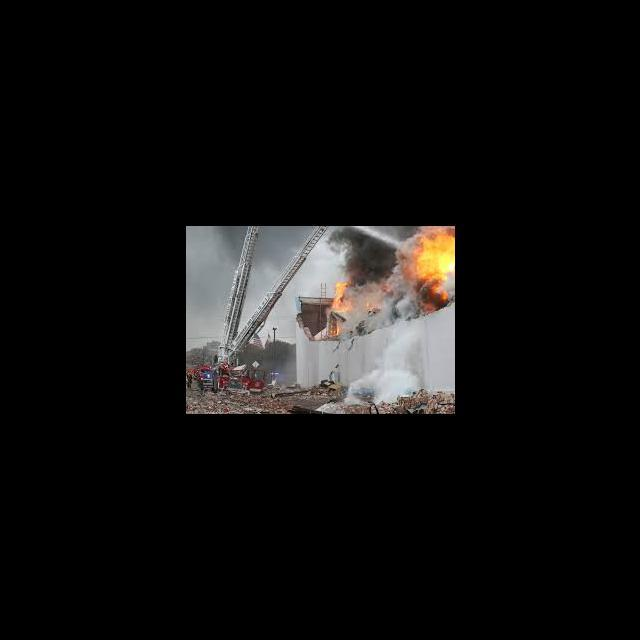Fire: (412, 226, 454, 314), (329, 278, 354, 310)
Smoke: (345, 332, 422, 404), (354, 228, 410, 316)
